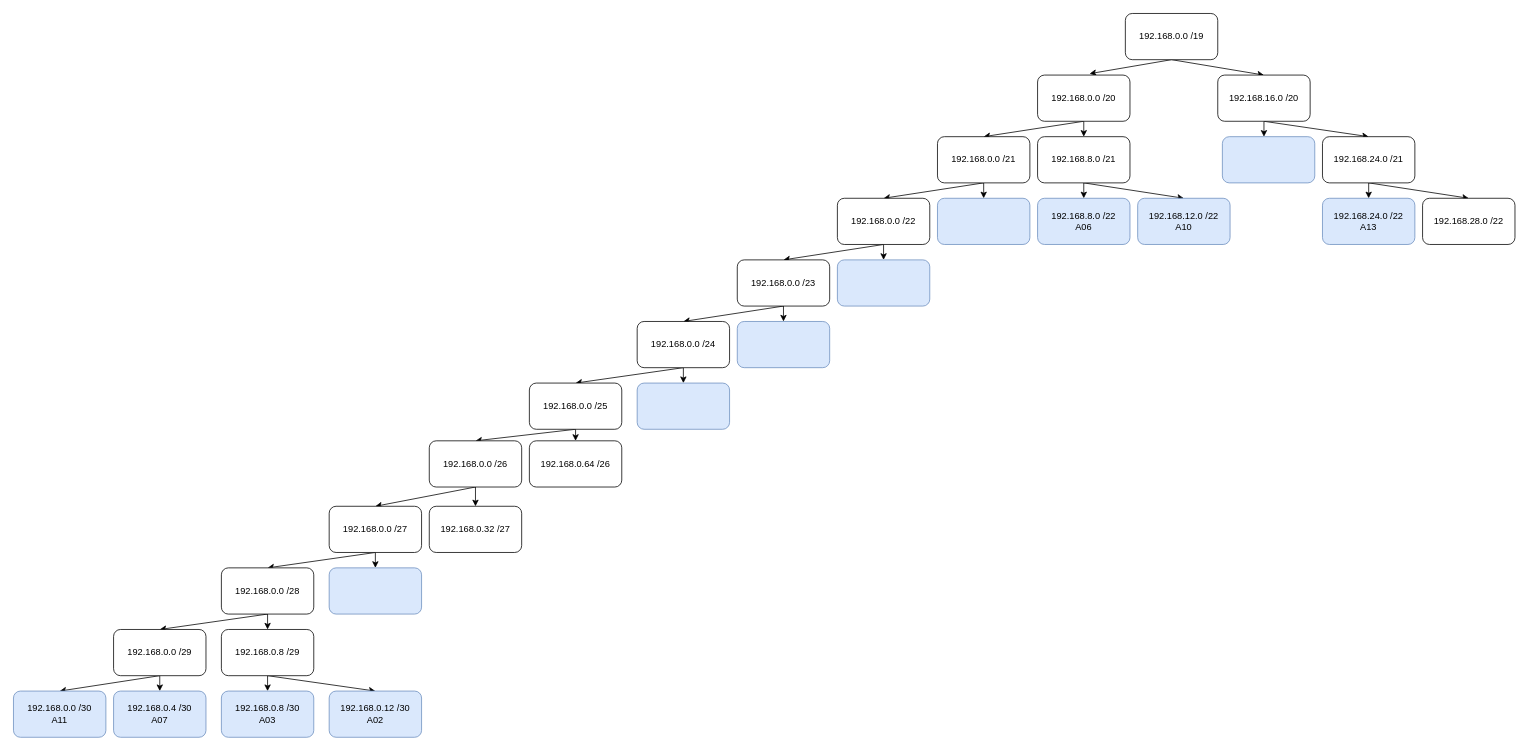
Image size: 1528x751. Some labels were removed from this diagram. The centre of each missing label's shape, as x and y in pixels:
"192.168.0.128 /25 A04" goes at pixel 683 405.
"192.168.0.16 /28 A09" goes at pixel 375 590.
"192.168.1.0 /24 A12" goes at pixel 783 344.
"192.168.16.0 /21 A05" goes at pixel 1268 159.
"192.168.2.0 /23 A08" goes at pixel 883 282.
"192.168.4.0 /22 A01" goes at pixel 983 221.
